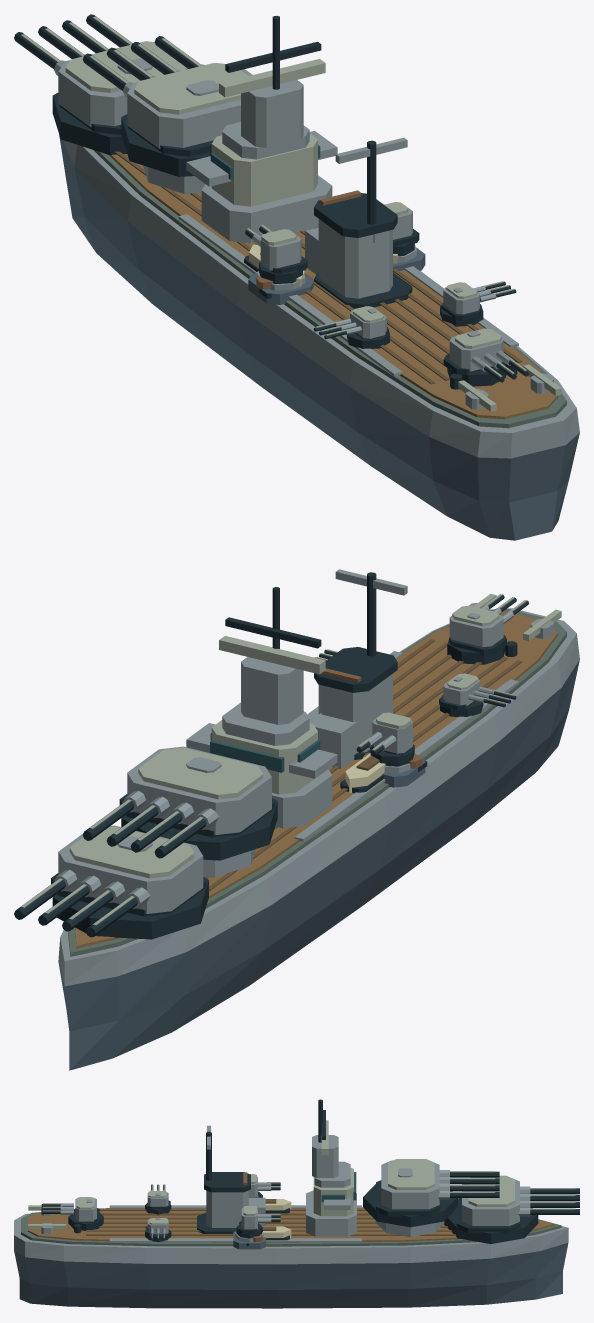
The model's file is historic-richelieu.glb.
The picture shows the model from 3 angles, top to bottom: view 1: azimuth 30°, elevation 25°; view 2: azimuth 150°, elevation 25°; view 3: azimuth 270°, elevation 25°; orthographic projection. The views are drawn at different scales.
Visible parts, largest first — view 1: historic-richelieu-historic-richelieu-geometry, historic-richelieu-part_bridge.042-geometry, historic-richelieu-turret_main_1.031-geometry, historic-richelieu-historic_funnel_0.043-geometry, historic-richelieu-turret_main_0.032-geometry, historic-richelieu-turret_secondary_2.009-geometry, historic-richelieu-turret_aa_aa-port.044-geometry, historic-richelieu-turret_secondary_1.011-geometry, historic-richelieu-turret_secondary_0.011-geometry, historic-richelieu-turret_aa_aa-starboard.042-geometry, historic-richelieu-part_aa-port.044-geometry; view 2: historic-richelieu-historic-richelieu-geometry, historic-richelieu-part_bridge.042-geometry, historic-richelieu-turret_main_1.031-geometry, historic-richelieu-turret_main_0.032-geometry, historic-richelieu-historic_funnel_0.043-geometry, historic-richelieu-turret_secondary_2.009-geometry, historic-richelieu-turret_aa_aa-port.044-geometry, historic-richelieu-turret_secondary_0.011-geometry, historic-richelieu-part_aa-port.044-geometry; view 3: historic-richelieu-historic-richelieu-geometry, historic-richelieu-turret_main_1.031-geometry, historic-richelieu-turret_main_0.032-geometry, historic-richelieu-part_bridge.042-geometry, historic-richelieu-historic_funnel_0.043-geometry, historic-richelieu-turret_secondary_2.009-geometry, historic-richelieu-turret_aa_aa-starboard.042-geometry, historic-richelieu-turret_secondary_0.011-geometry, historic-richelieu-turret_secondary_1.011-geometry, historic-richelieu-turret_aa_aa-port.044-geometry, historic-richelieu-part_aa-starboard.042-geometry.
Boxes of the visible parts, x1,y1,x2,y2 form: historic-richelieu-historic-richelieu-geometry: [59, 135, 579, 540]; historic-richelieu-part_bridge.042-geometry: [186, 16, 337, 243]; historic-richelieu-turret_main_1.031-geometry: [82, 36, 252, 176]; historic-richelieu-historic_funnel_0.043-geometry: [305, 137, 412, 308]; historic-richelieu-turret_main_0.032-geometry: [14, 14, 187, 155]; historic-richelieu-turret_secondary_2.009-geometry: [443, 328, 528, 386]; historic-richelieu-turret_aa_aa-port.044-geometry: [245, 225, 307, 284]; historic-richelieu-turret_secondary_1.011-geometry: [440, 281, 516, 326]; historic-richelieu-turret_secondary_0.011-geometry: [313, 306, 389, 348]; historic-richelieu-turret_aa_aa-starboard.042-geometry: [376, 199, 419, 256]; historic-richelieu-part_aa-port.044-geometry: [248, 271, 313, 304]; historic-richelieu-historic-richelieu-geometry: [58, 594, 579, 1070]; historic-richelieu-part_bridge.042-geometry: [186, 587, 337, 828]; historic-richelieu-turret_main_1.031-geometry: [83, 746, 277, 860]; historic-richelieu-turret_main_0.032-geometry: [14, 825, 208, 939]; historic-richelieu-historic_funnel_0.043-geometry: [309, 569, 407, 768]; historic-richelieu-turret_secondary_2.009-geometry: [447, 594, 528, 664]; historic-richelieu-turret_aa_aa-port.044-geometry: [356, 712, 414, 766]; historic-richelieu-turret_secondary_0.011-geometry: [439, 673, 516, 716]; historic-richelieu-part_aa-port.044-geometry: [382, 754, 425, 787]; historic-richelieu-historic-richelieu-geometry: [14, 1199, 568, 1308]; historic-richelieu-turret_main_1.031-geometry: [363, 1159, 499, 1227]; historic-richelieu-turret_main_0.032-geometry: [444, 1175, 579, 1243]; historic-richelieu-part_bridge.042-geometry: [306, 1099, 356, 1236]; historic-richelieu-historic_funnel_0.043-geometry: [197, 1125, 265, 1233]; historic-richelieu-turret_secondary_2.009-geometry: [41, 1197, 103, 1230]; historic-richelieu-turret_aa_aa-starboard.042-geometry: [236, 1206, 280, 1238]; historic-richelieu-turret_secondary_0.011-geometry: [145, 1184, 171, 1215]; historic-richelieu-turret_secondary_1.011-geometry: [145, 1218, 171, 1241]; historic-richelieu-turret_aa_aa-port.044-geometry: [248, 1174, 280, 1197]; historic-richelieu-part_aa-starboard.042-geometry: [233, 1231, 265, 1249].
Size of the model in its own units: 1.11 by 1.84 by 4.89.
